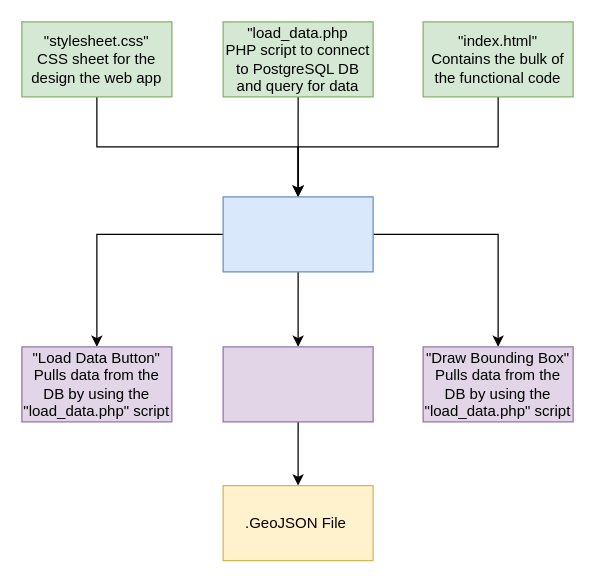
The diagram is 595 pixels wide and 583 high, and some of its shapes have lost their labels. The shapes that lost their labels are listed below. From the top down, each one's centre as x and y in pixels, then its label:
point (297, 234): The Web App
point (297, 384): "Download Data Button" Downloads current visible data as GeoJSON data
